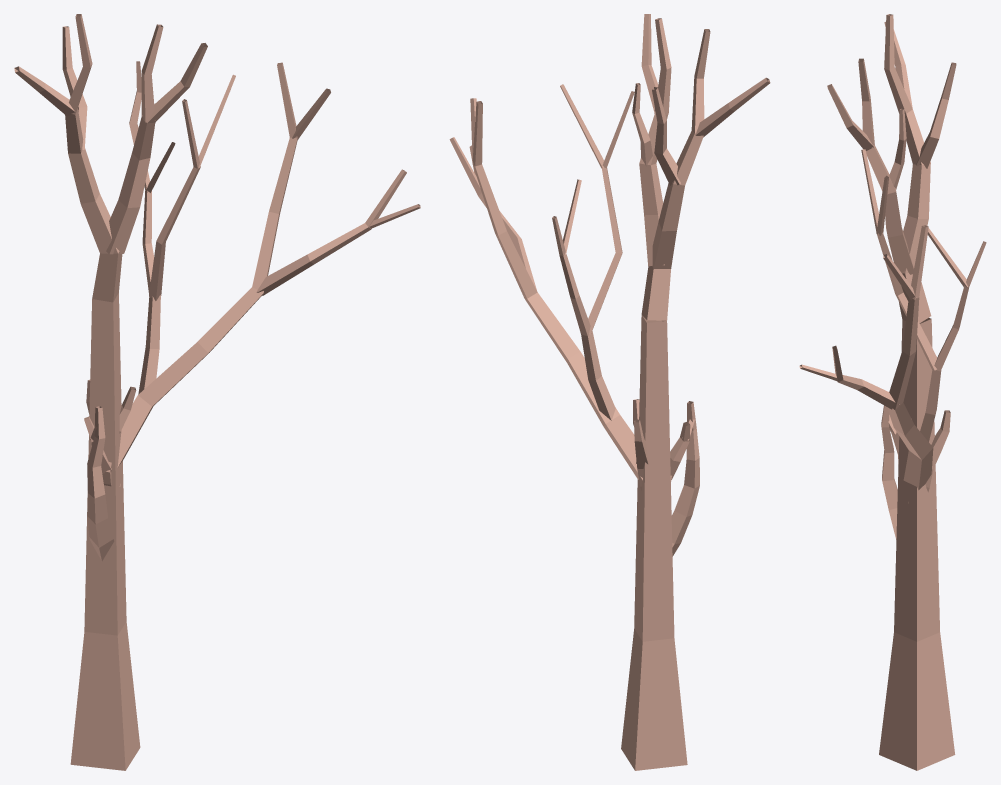
Rendered from tree1.fbx.
3 views of the same model, side by side, from view 1: azimuth 30°, elevation 25°; view 2: azimuth 150°, elevation 25°; view 3: azimuth 270°, elevation 25° (orthographic). The views are drawn at different scales.
Visible parts, largest first — view 1: tree.001; view 2: tree.001; view 3: tree.001.
Part boxes in pixels (x1,y1,x2,y2): tree.001: [14, 14, 420, 770]; tree.001: [449, 14, 770, 770]; tree.001: [799, 14, 986, 770].
Bounding box in the file's own units: 340 × 681 × 160.
